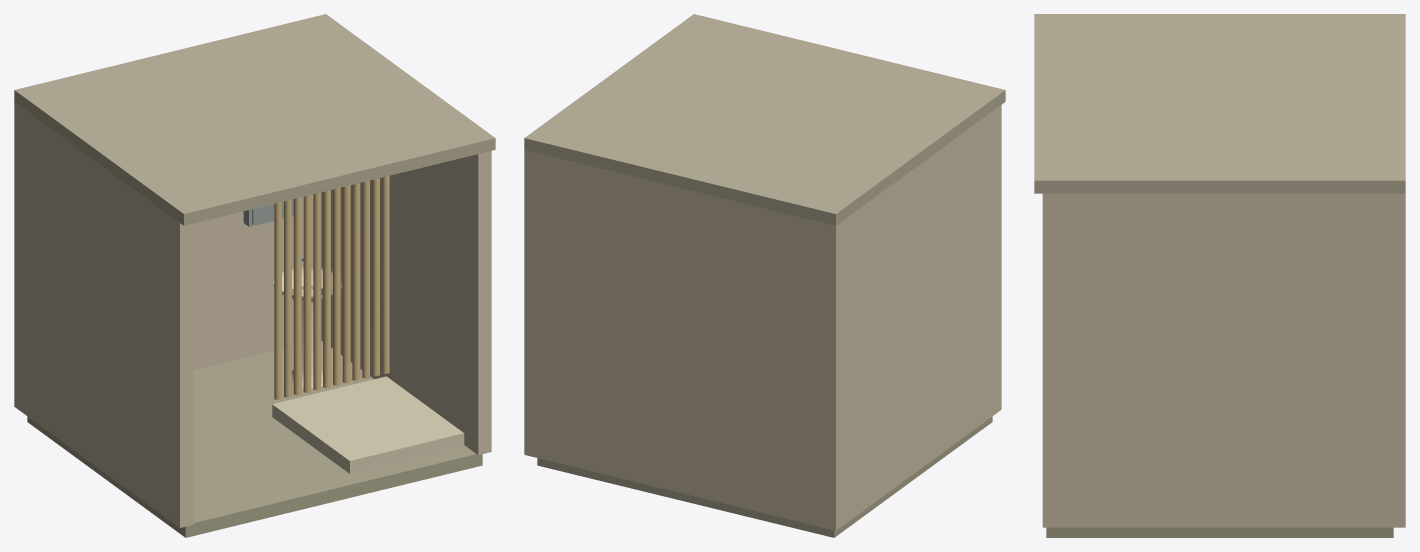
Rendered from SM_Town_Motel_Bathroom_LOD1.fbx.
The picture shows the model from 3 angles, left to right: view 1: azimuth 30°, elevation 25°; view 2: azimuth 150°, elevation 25°; view 3: azimuth 270°, elevation 25°; orthographic projection. The views are drawn at different scales.
Visible parts, largest first — view 1: SM_Town_Motel_Bathroom_LOD1; view 2: SM_Town_Motel_Bathroom_LOD1; view 3: SM_Town_Motel_Bathroom_LOD1.
Boxes of the visible parts, x1,y1,x2,y2 form: SM_Town_Motel_Bathroom_LOD1: [14, 14, 495, 537]; SM_Town_Motel_Bathroom_LOD1: [524, 14, 1005, 537]; SM_Town_Motel_Bathroom_LOD1: [1034, 14, 1405, 537].
Size of the model in its own units: 2.78 by 2.62 by 2.81.
